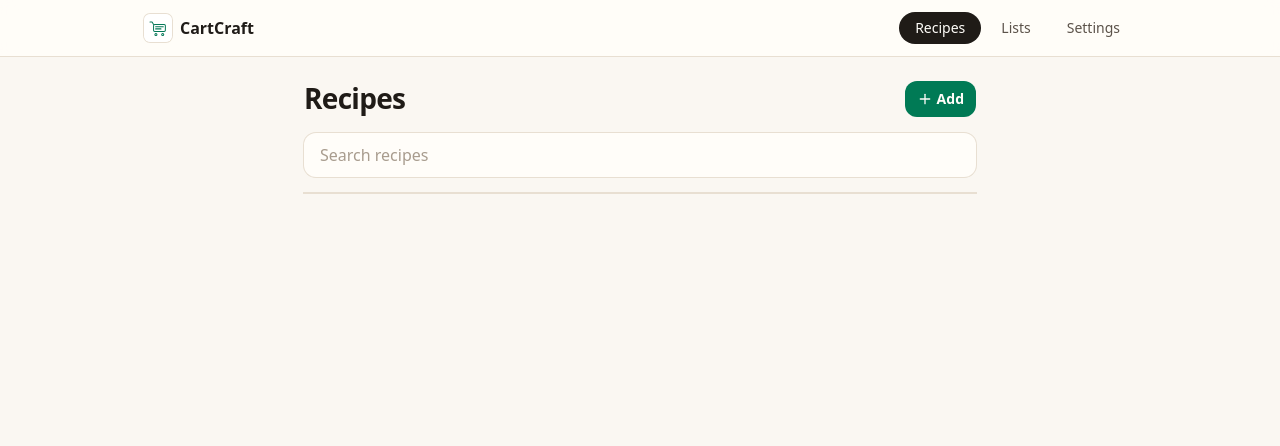
Test: AppRoutes › opens the add recipe screen
Click the link with aria-label "Add recipe" at (940, 99), box top-left (905, 81), bottom-right (976, 117)
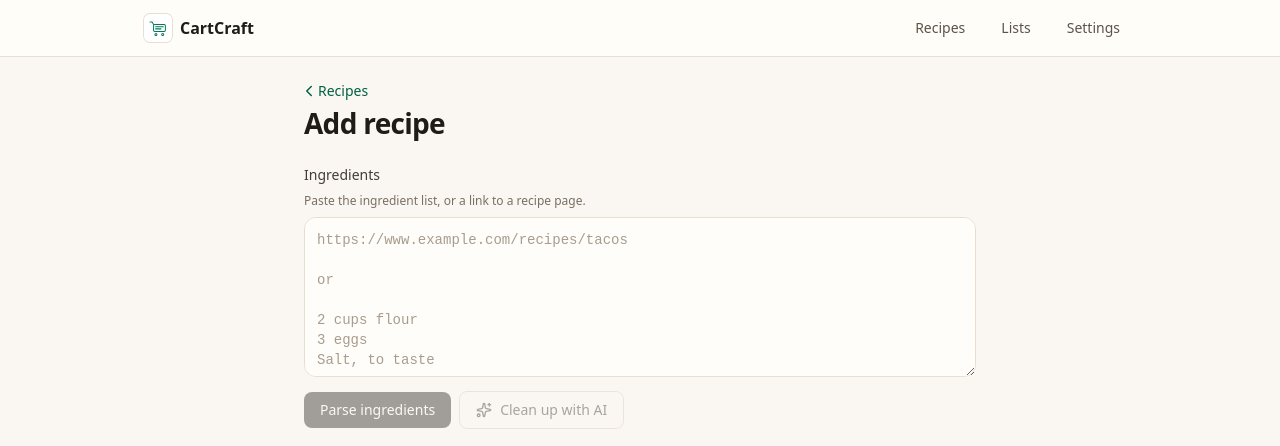
Check: the heading "Add recipe" is shown, box top-left (304, 106), bottom-right (445, 141)
